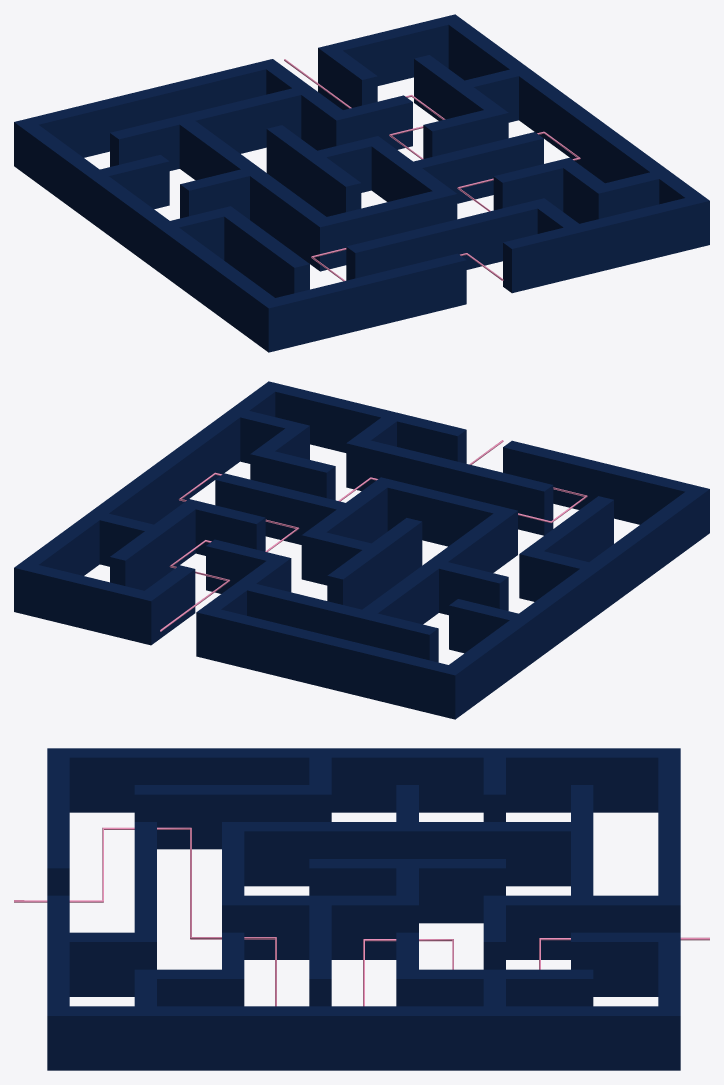
Rendered from Maze01.gltf.
3 renders of one model, top to bottom at view 1: azimuth 30°, elevation 25°; view 2: azimuth 150°, elevation 25°; view 3: azimuth 270°, elevation 25°, orthographic. The views are drawn at different scales.
Visible parts, largest first — view 1: Curve, Curve.001, Curve.002; view 2: Curve, Curve.001, Curve.002; view 3: Curve, Curve.001, Curve.002.
Part boxes in pixels (x1,y1,x2,y2): Curve: [14, 59, 543, 352]; Curve.001: [318, 14, 709, 293]; Curve.002: [284, 59, 580, 281]; Curve: [196, 440, 709, 719]; Curve.001: [14, 381, 553, 645]; Curve.002: [160, 440, 587, 631]; Curve: [47, 748, 680, 1006]; Curve.001: [47, 822, 680, 1070]; Curve.002: [14, 827, 709, 1006].
Size of the model in its own units: 6.87 by 0.6578 by 7.55.
